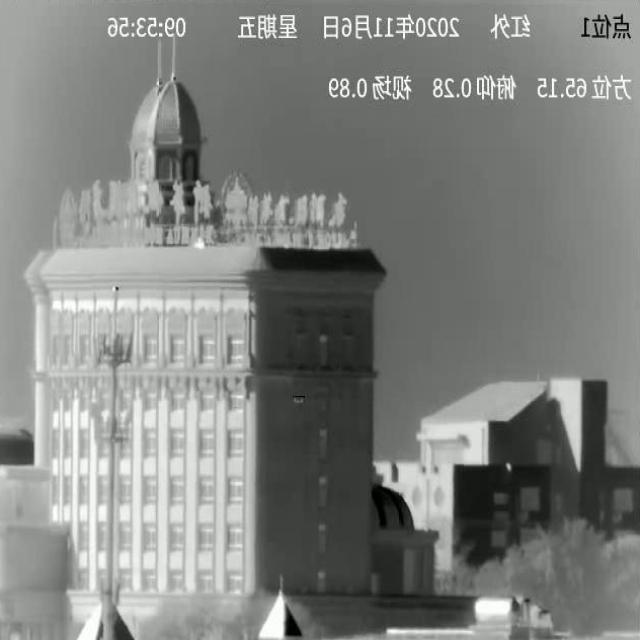drone: (293, 396, 305, 403)
